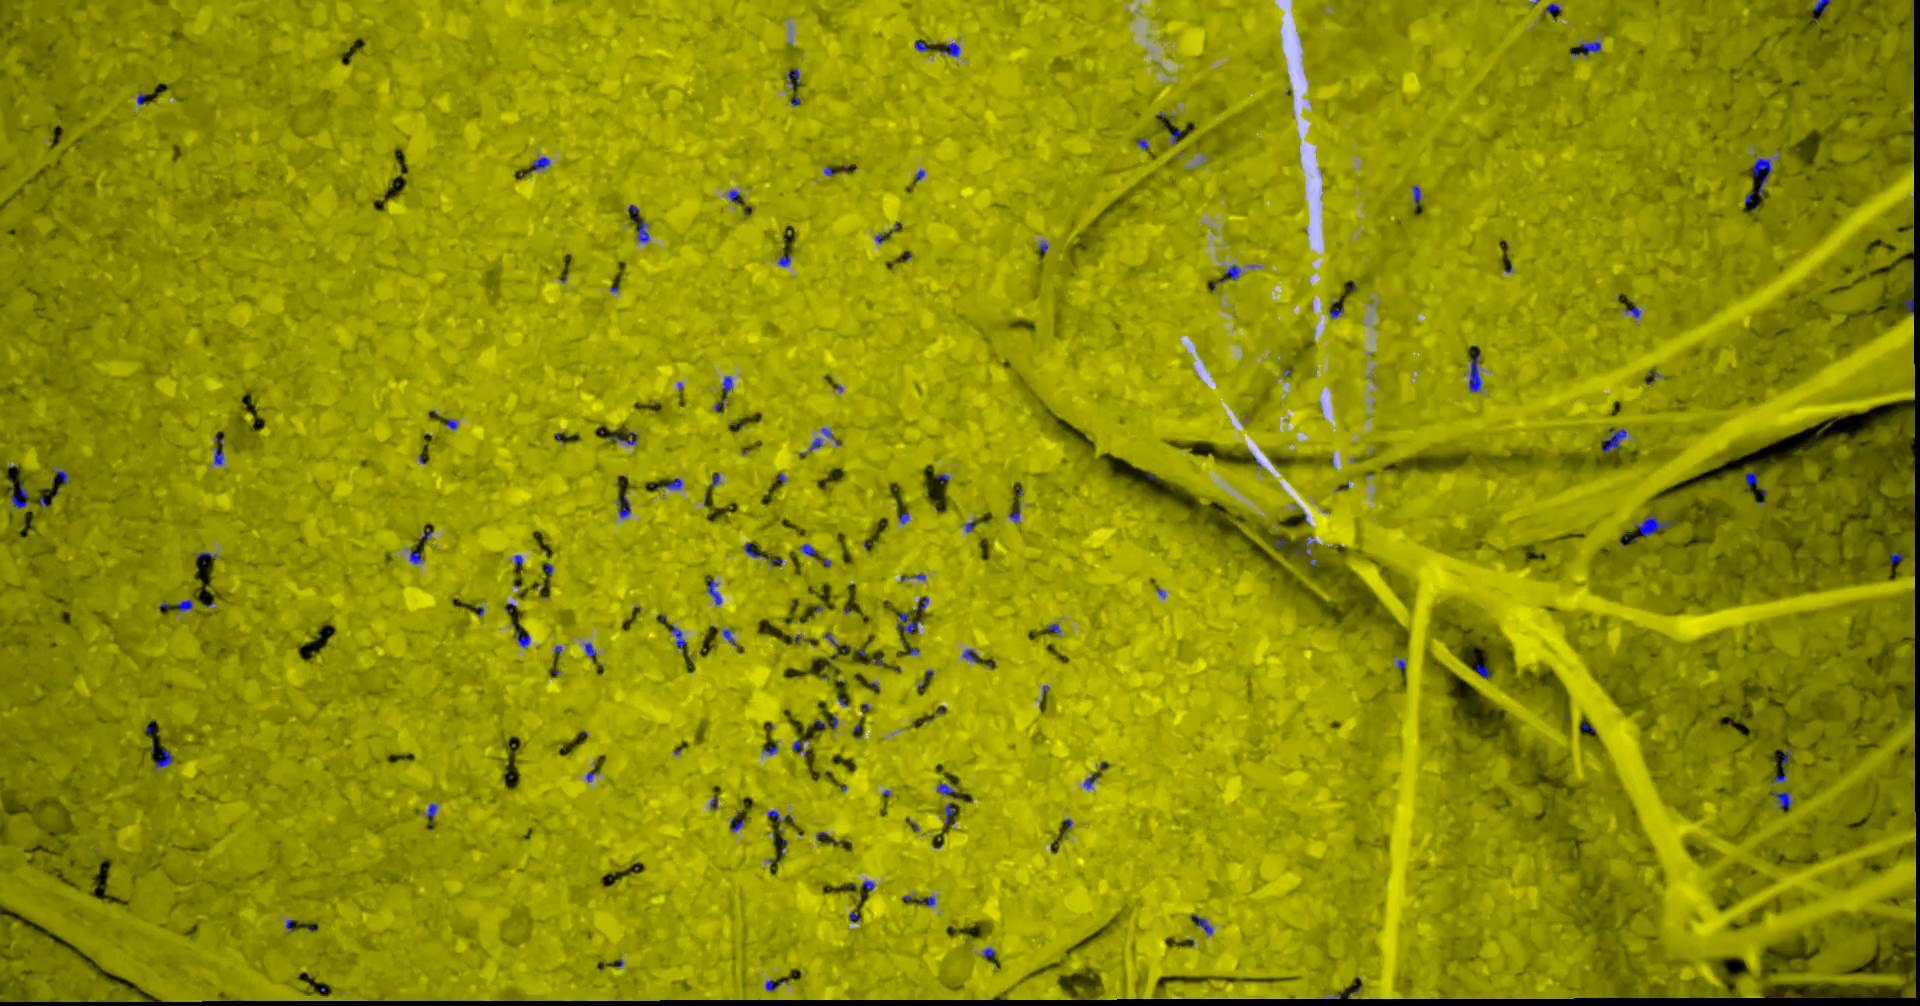ant: (1634, 513, 1672, 536), (1752, 158, 1771, 196), (1770, 751, 1790, 782), (1601, 427, 1625, 451), (897, 611, 919, 633), (1468, 353, 1481, 391), (1189, 915, 1211, 934), (1571, 41, 1600, 55), (608, 431, 637, 445), (743, 542, 770, 558), (513, 622, 530, 647), (670, 625, 686, 650), (707, 578, 721, 605), (11, 484, 27, 508), (616, 493, 630, 518), (785, 67, 799, 91), (814, 714, 837, 728), (1771, 790, 1790, 807), (937, 42, 959, 56), (1222, 264, 1239, 281), (155, 749, 171, 767), (530, 156, 549, 171), (1743, 471, 1757, 490), (637, 220, 649, 243), (728, 189, 743, 205), (943, 803, 954, 826), (767, 810, 790, 821), (799, 542, 815, 556), (723, 629, 737, 645), (936, 782, 952, 796), (729, 817, 745, 831), (1813, 0, 1831, 13), (425, 803, 437, 822), (1412, 185, 1421, 210), (1543, 3, 1559, 15), (1624, 305, 1641, 318), (409, 546, 422, 563), (764, 979, 785, 989), (664, 478, 682, 489), (963, 649, 978, 662), (584, 641, 596, 658), (1476, 663, 1488, 677), (177, 600, 192, 611), (213, 447, 223, 464), (723, 376, 731, 392), (777, 254, 790, 265), (1330, 307, 1343, 318), (1903, 297, 1912, 312), (919, 895, 935, 904)
